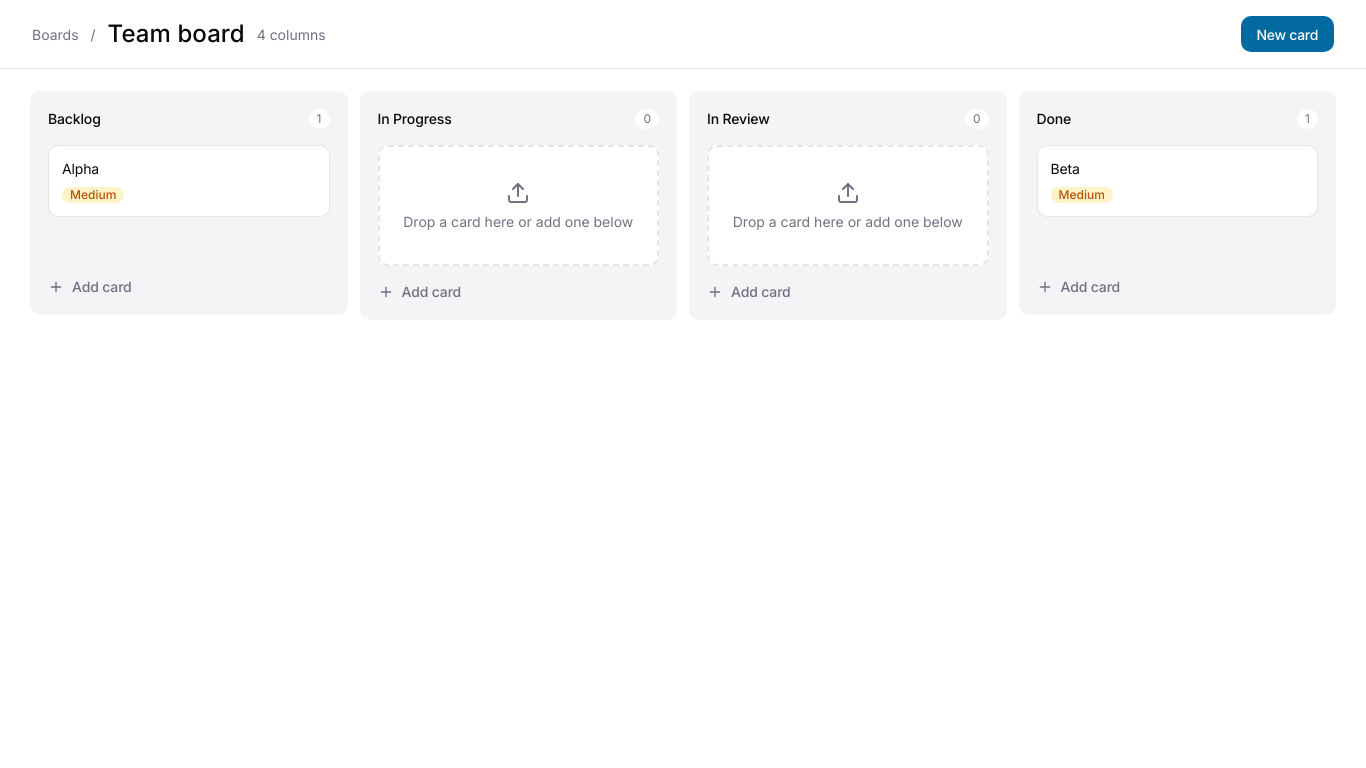
Test: Board › audit regressions › keeps the error visible after a failed delete rolls back
Expected: the text "Alpha" is shown, [62, 160, 99, 177]
Click the button with aria-label "Alpha.".
click(81, 168)  # box [48, 145, 330, 217]
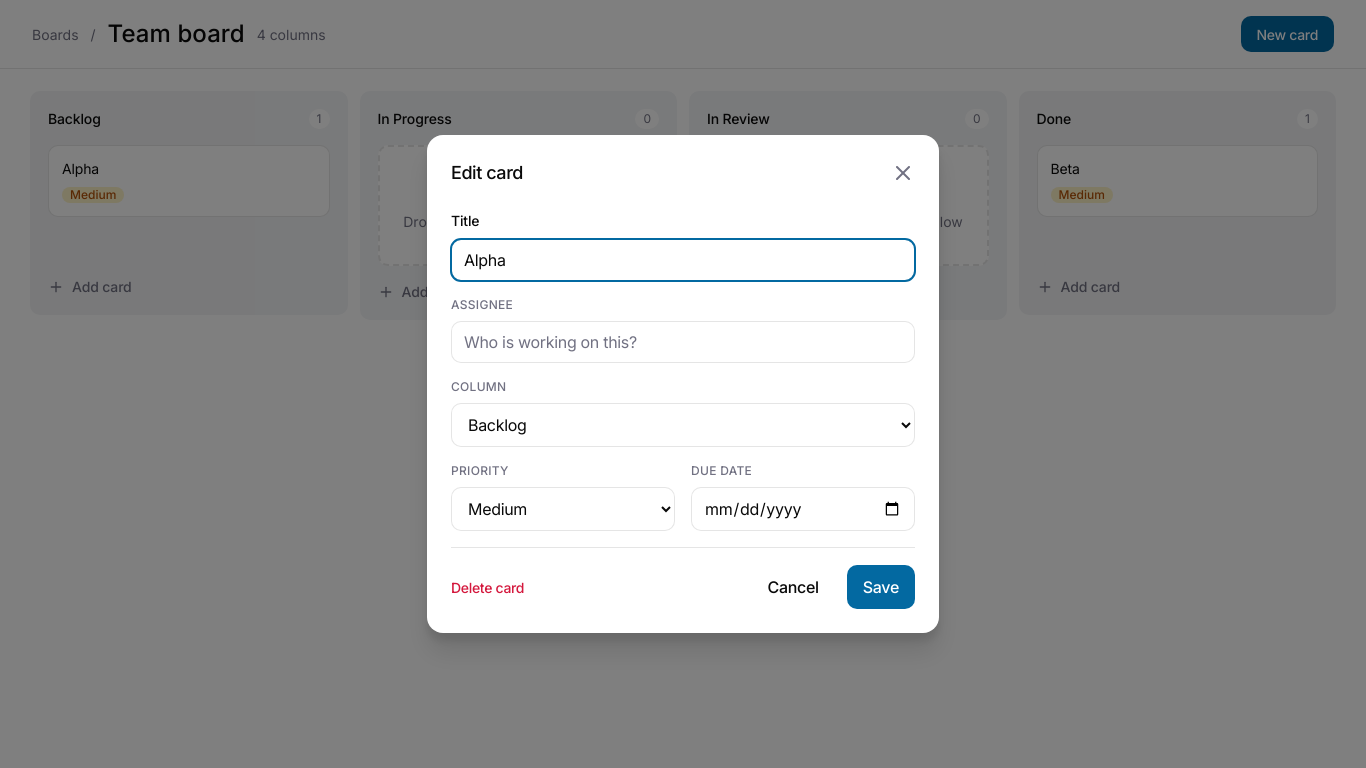
Click the button "Delete card".
click(488, 587)  # box [451, 575, 524, 599]
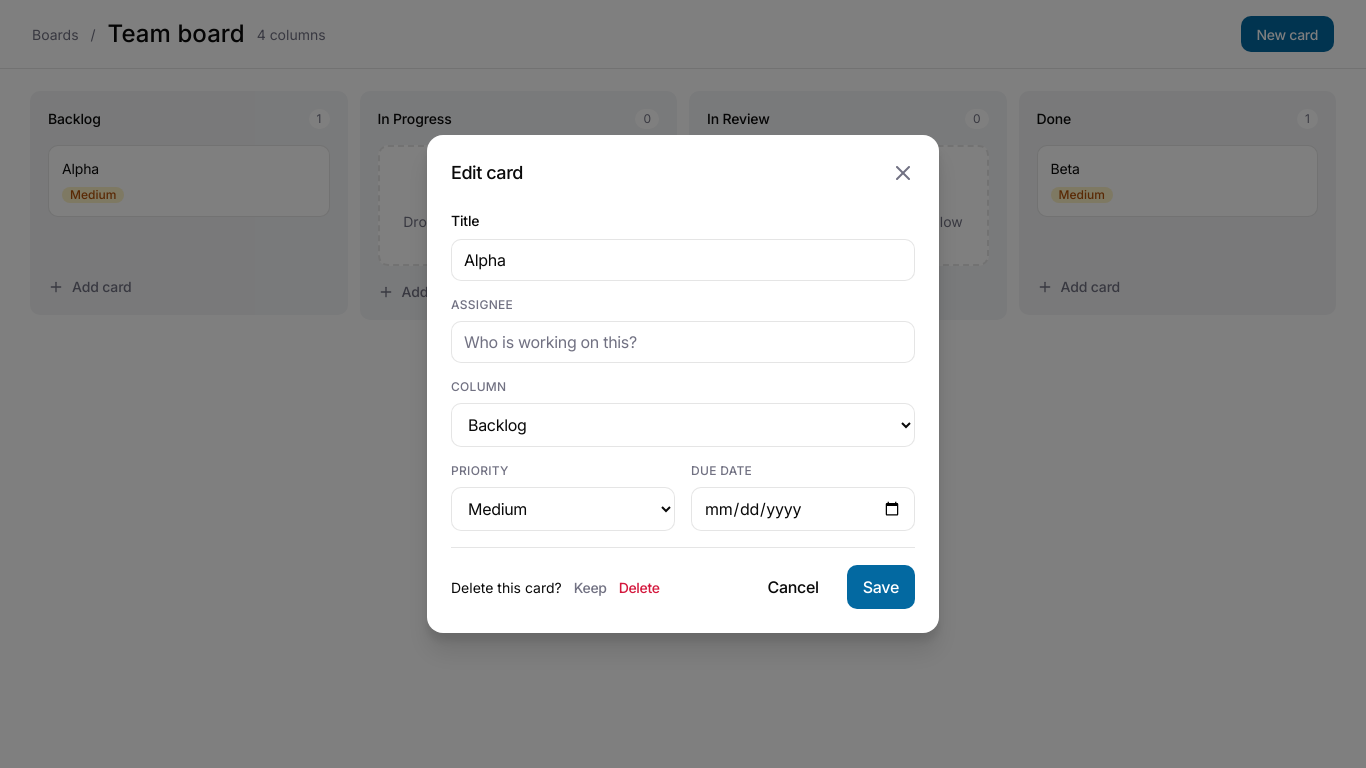
Click the button "Delete".
click(639, 587)  # box [619, 575, 660, 599]
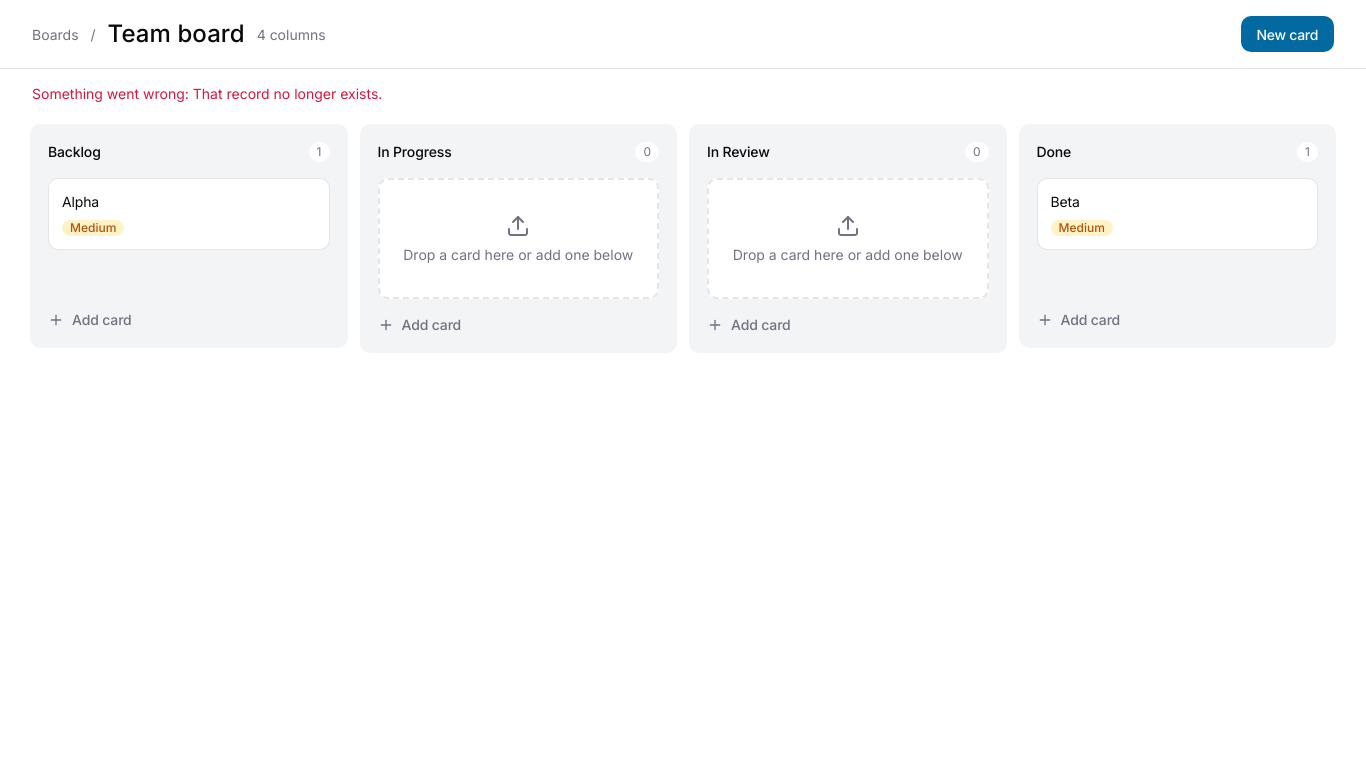
Expected: the text "Alpha" is shown, [62, 193, 99, 210]
Expected: the message shows "That record no longer exists.", [193, 85, 382, 102]
